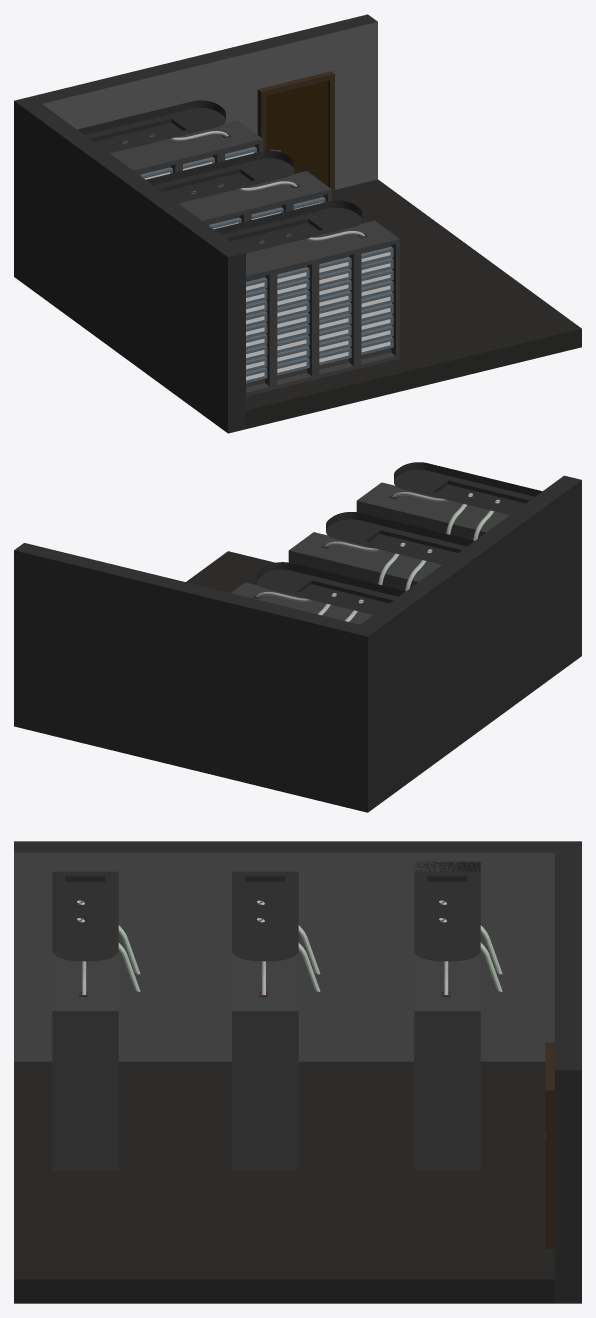
3 views of the same model, one above another, from view 1: azimuth 30°, elevation 25°; view 2: azimuth 150°, elevation 25°; view 3: azimuth 270°, elevation 25° (orthographic). The views are drawn at different scales.
Visible parts, largest first — view 1: Cube.004, Cube.003, Cube.001, Cube.009, Cube.006, Cube.007, Cube.005, Cube.008, Cube.002; view 2: Cube.003, Cube.004, Cube.007, Cube.005, Cube.002, Cube.008, Cube.009, Cube.001, Cube.006; view 3: Cube.001, Cube.004, Cube.003, Cube.007, Cube.009, Cube.006, Cube.005, Cube.002, Cube.008.
Part boxes in pixels (x1,y1,x2,y2): Cube.004: [14, 96, 245, 433]; Cube.003: [32, 14, 377, 193]; Cube.001: [246, 179, 581, 428]; Cube.009: [246, 220, 399, 396]; Cube.006: [110, 120, 263, 179]; Cube.007: [179, 171, 331, 229]; Cube.005: [77, 100, 225, 153]; Cube.008: [214, 200, 362, 253]; Cube.002: [146, 150, 294, 203]; Cube.003: [14, 543, 359, 808]; Cube.004: [350, 475, 581, 812]; Cube.007: [288, 532, 441, 590]; Cube.005: [257, 562, 405, 614]; Cube.002: [326, 512, 474, 564]; Cube.008: [394, 462, 542, 514]; Cube.009: [356, 482, 509, 540]; Cube.001: [186, 551, 274, 592]; Cube.006: [231, 582, 373, 624]; Cube.001: [14, 1061, 554, 1303]; Cube.004: [14, 841, 581, 1061]; Cube.003: [545, 852, 581, 1303]; Cube.007: [232, 951, 298, 1170]; Cube.009: [52, 952, 118, 1170]; Cube.006: [414, 952, 480, 1170]; Cube.005: [414, 861, 480, 961]; Cube.002: [232, 866, 298, 961]; Cube.008: [52, 871, 118, 961].
Size of the model in its own units: 1074 by 511 by 1125.
